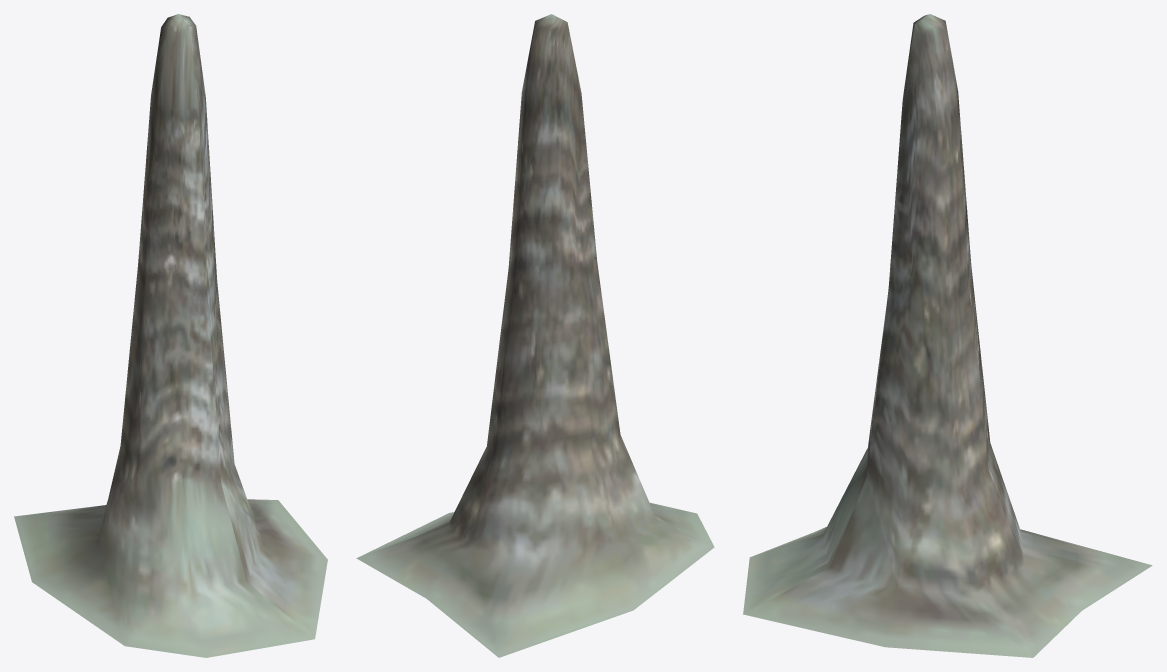
File: TROLLHOLE02_PS-MAINSTALAG38.fbx
The picture shows the model from 3 angles, left to right: view 1: azimuth 30°, elevation 25°; view 2: azimuth 150°, elevation 25°; view 3: azimuth 270°, elevation 25°; orthographic projection. The views are drawn at different scales.
Parts seen in each view (by area): view 1: TROLLHOLE02_PS-MAINSTALAG38; view 2: TROLLHOLE02_PS-MAINSTALAG38; view 3: TROLLHOLE02_PS-MAINSTALAG38.
Boxes of the visible parts, x1,y1,x2,y2 form: TROLLHOLE02_PS-MAINSTALAG38: (14,14,327,657); TROLLHOLE02_PS-MAINSTALAG38: (356,14,714,657); TROLLHOLE02_PS-MAINSTALAG38: (743,14,1152,657).
Bounding box in the file's own units: 20622 × 42180 × 27067.
1 material, 1 textured.
